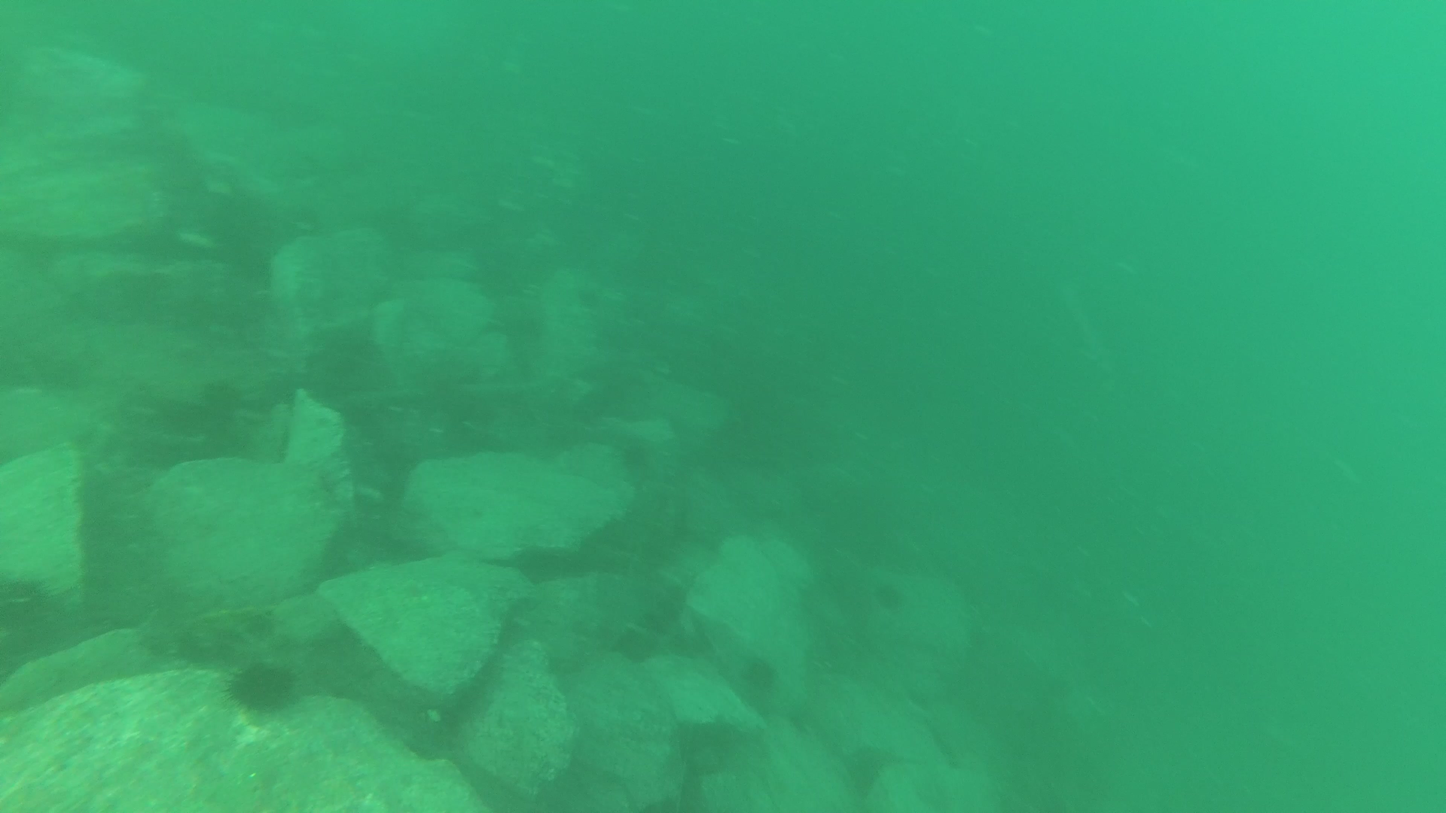starfish: (222, 655, 302, 717), (743, 654, 779, 692), (874, 580, 906, 613)
